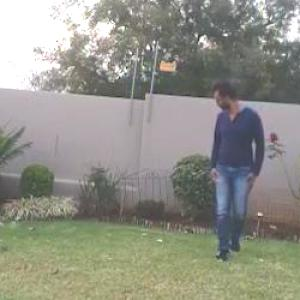follow: (205, 64, 269, 274)
